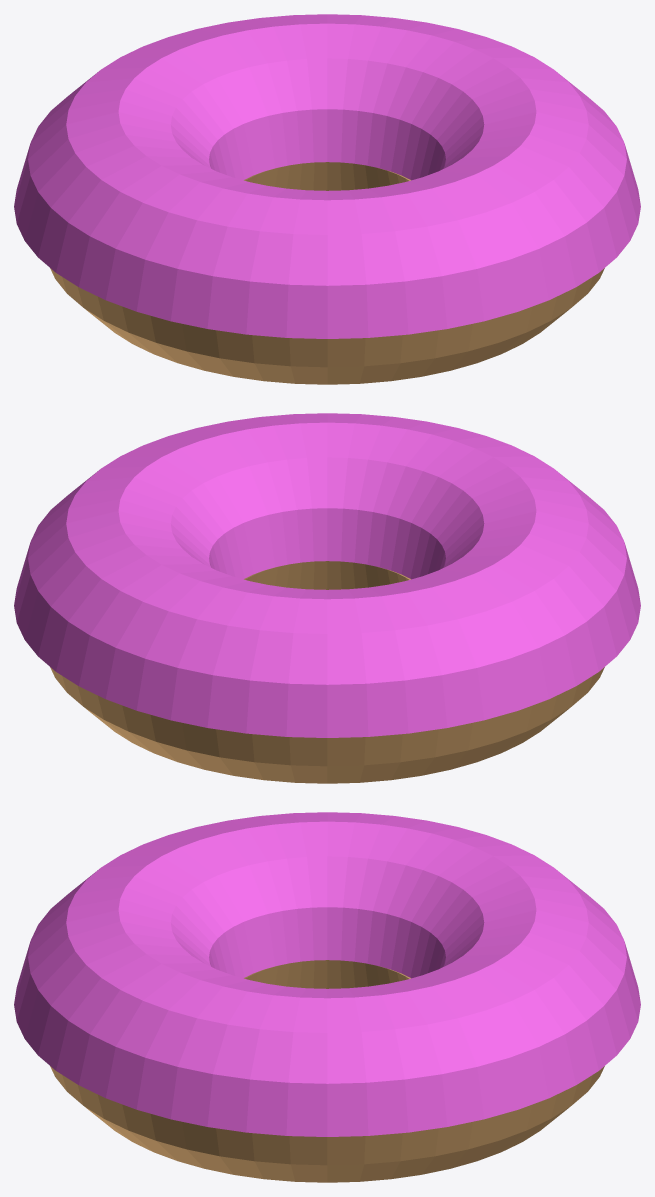
File: donut.glb
3 renders of one model, top to bottom at view 1: azimuth 30°, elevation 25°; view 2: azimuth 150°, elevation 25°; view 3: azimuth 270°, elevation 25°, orthographic.
Visible parts, largest first — view 1: Torus; view 2: Torus; view 3: Torus.
Part boxes in pixels (x1,y1,x2,y2): Torus: (14, 14, 640, 384); Torus: (14, 413, 640, 783); Torus: (14, 812, 640, 1182).
Bounding box in the file's own units: 0.3188 × 0.1015 × 0.3188.
